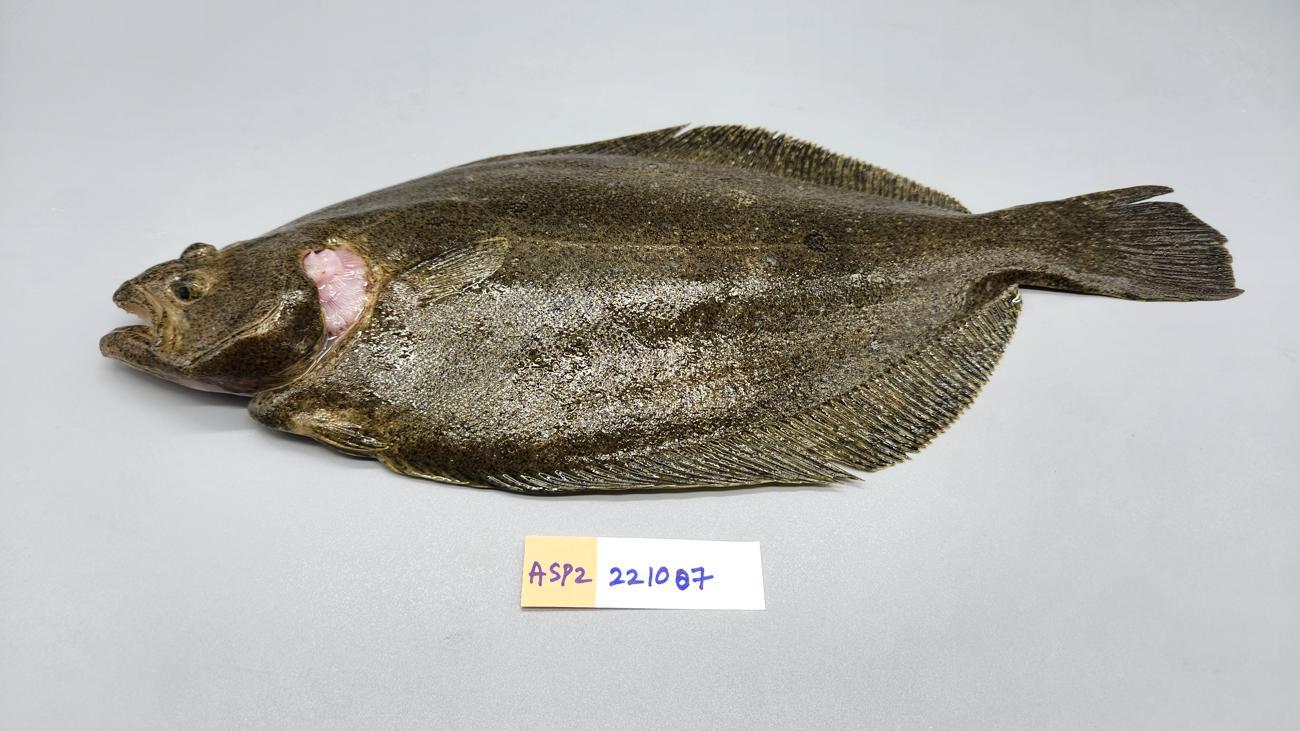SPOUY: (92, 117, 1250, 506)
